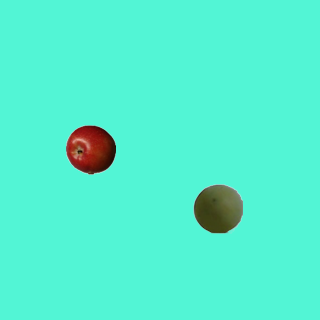Apple Braeburn: (65, 124, 115, 174)
Grape White 4: (192, 183, 242, 233)
